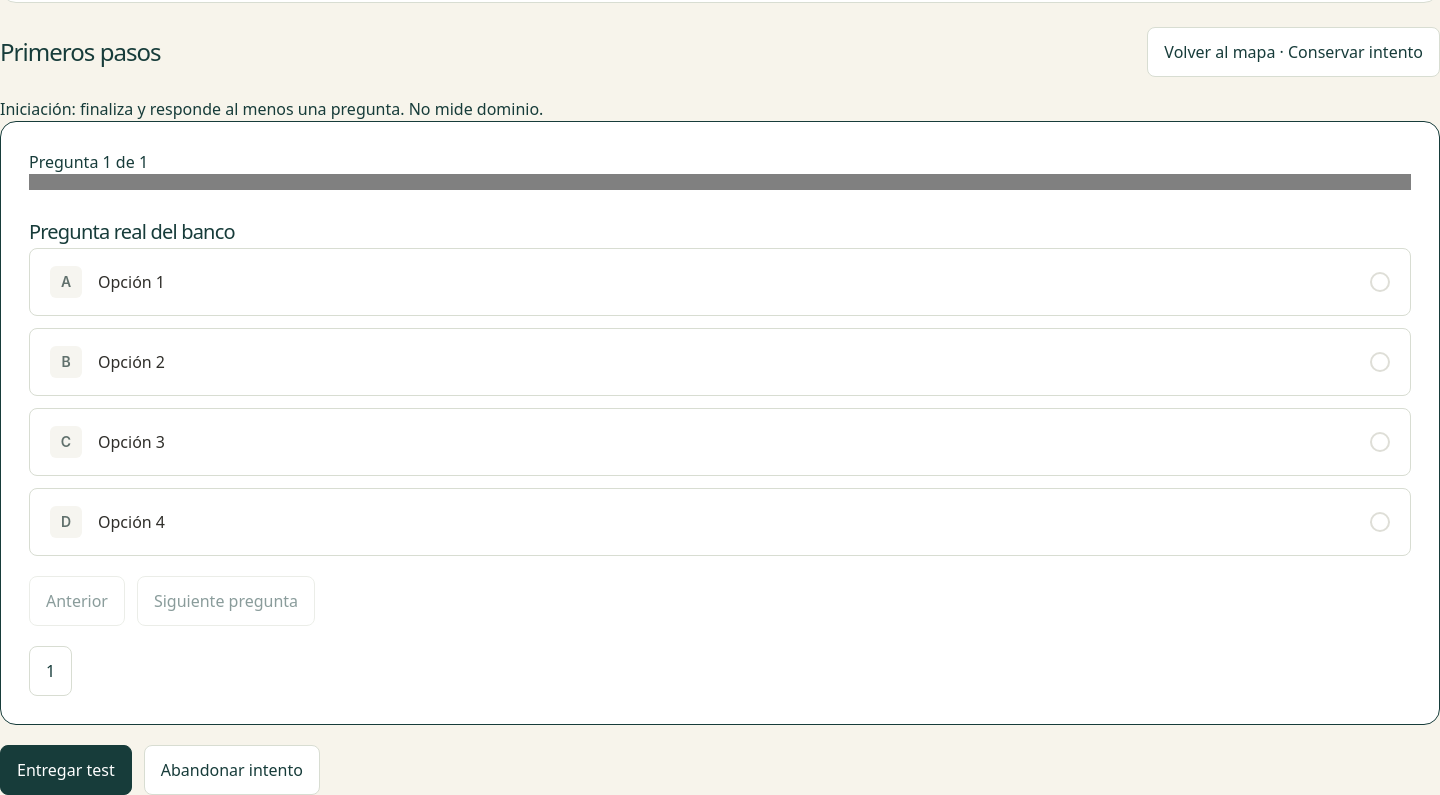
it: learning path experience › asks about blanks and shows rewards only after server finalization
(page scrolled)
expect the heading "Pregunta real del banco" is shown: met, box [29,218,235,245]
Step 1. Click the button "Entregar test" → (66,770), box [0,745,132,794]
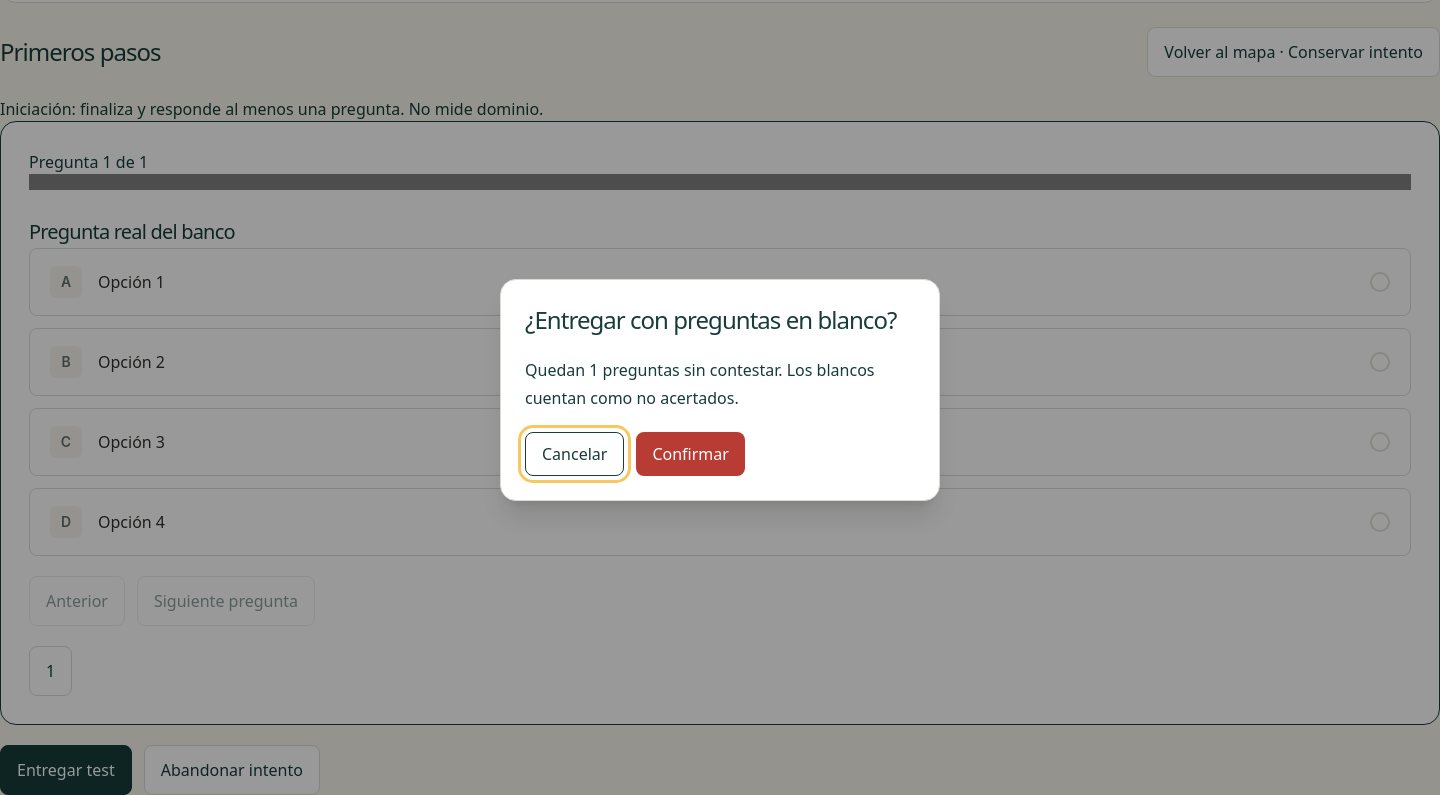
expect the dialog shows "preguntas sin contestar": met, box [525,359,874,409]
Step 2. Click the button "Confirmar" → (691,454), box [636,432,745,476]
(page scrolled)
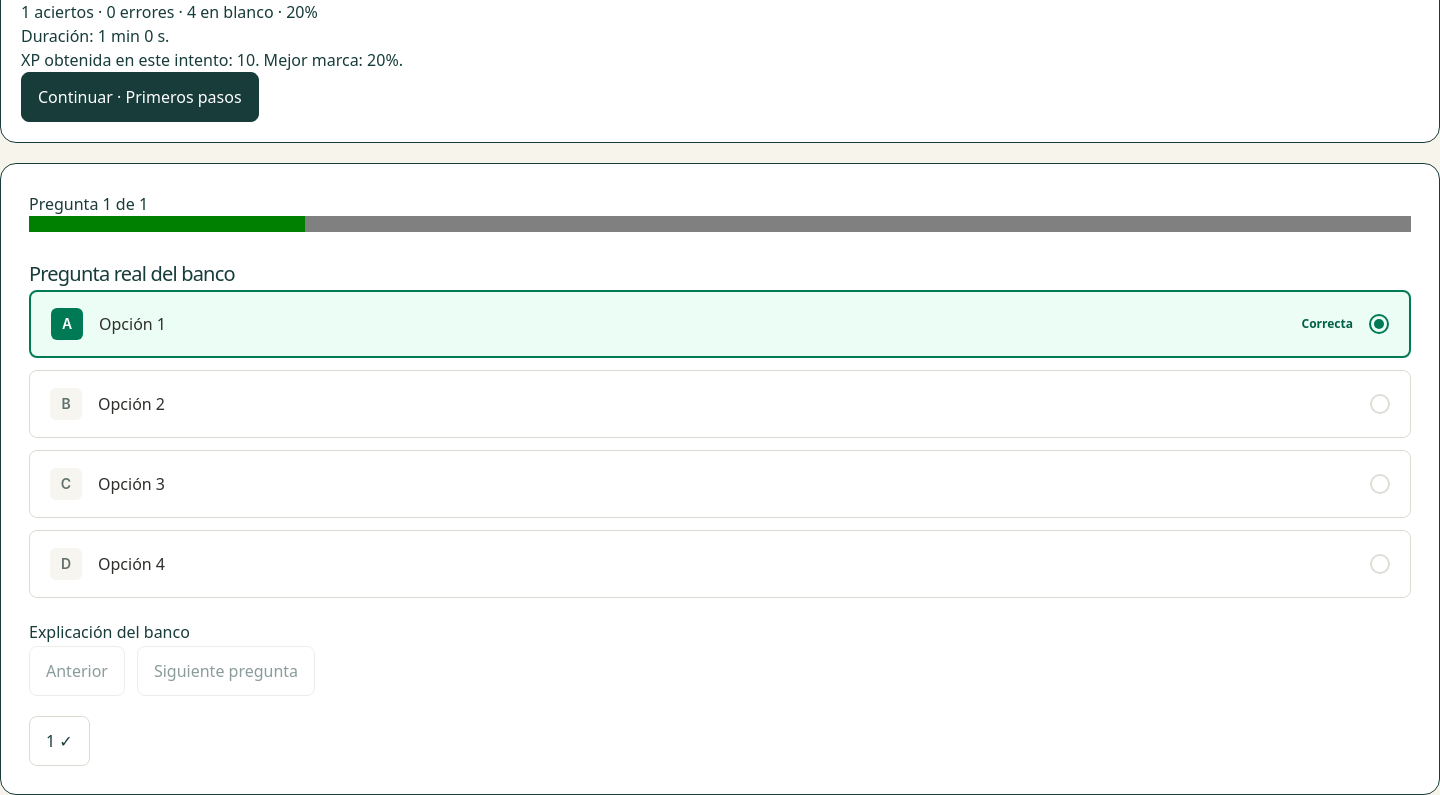
expect the text "XP obtenida en este intento: 10. Mejor marca: 20%." is shown: met, box [21,49,403,71]
expect the text "Explicación del banco" is shown: met, box [29,621,190,643]
